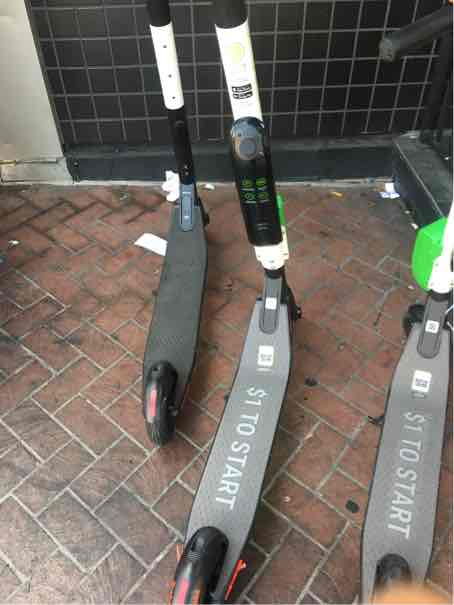scooter: (60, 12, 363, 604)
